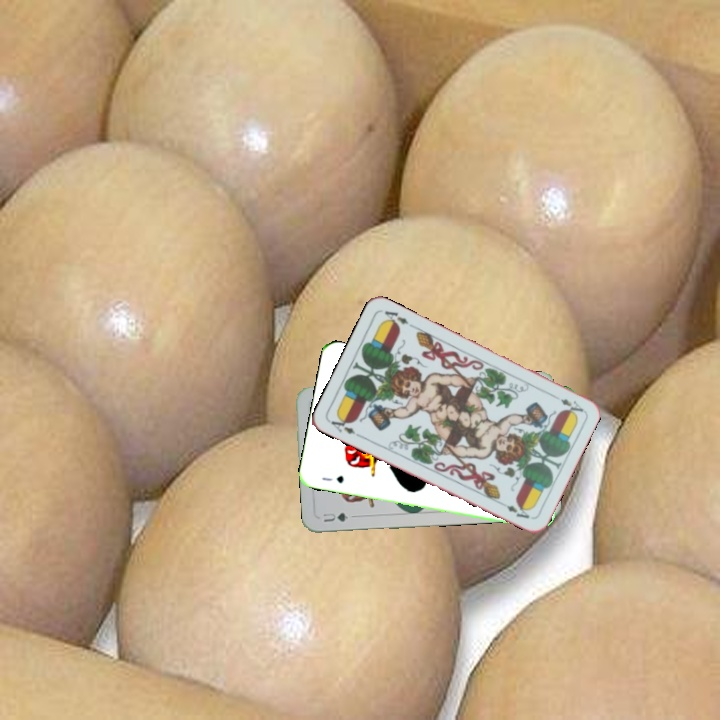EA: (327, 412, 364, 440), (556, 394, 586, 416)
GU: (319, 508, 351, 525), (318, 472, 346, 486)
